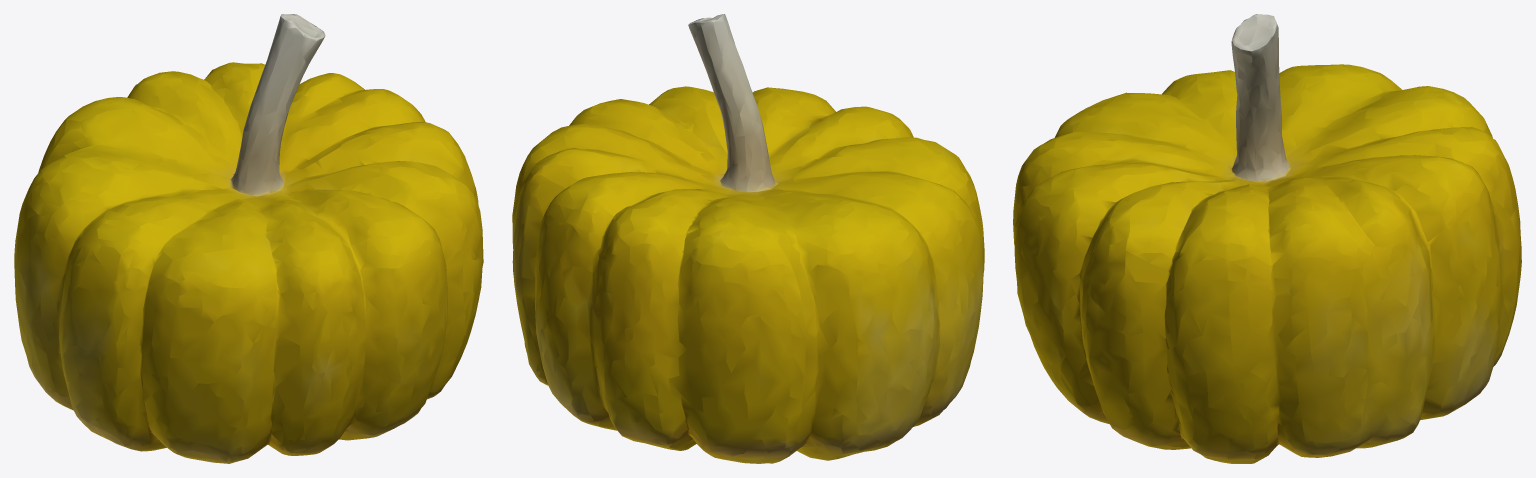
Rendered from 0005_mask_006_orange_pumpkin_decoration.glb.
The picture shows the model from 3 angles, left to right: view 1: azimuth 30°, elevation 25°; view 2: azimuth 150°, elevation 25°; view 3: azimuth 270°, elevation 25°; orthographic projection. The views are drawn at different scales.
Parts seen in each view (by area): view 1: mask_006_object; view 2: mask_006_object; view 3: mask_006_object.
Boxes of the visible parts, <box> form: mask_006_object: <box>14,14,483,463</box>; mask_006_object: <box>512,14,984,463</box>; mask_006_object: <box>1013,14,1521,463</box>.
Bounding box in the file's own units: 0.0861 × 0.0783 × 0.0878.
